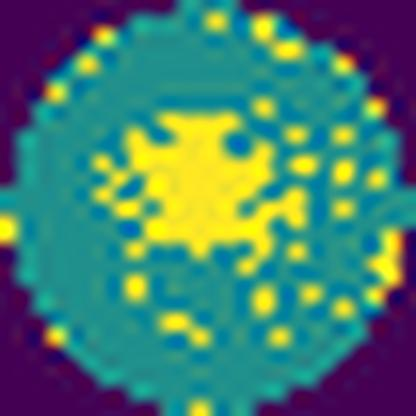Center: (122, 112, 275, 266)
